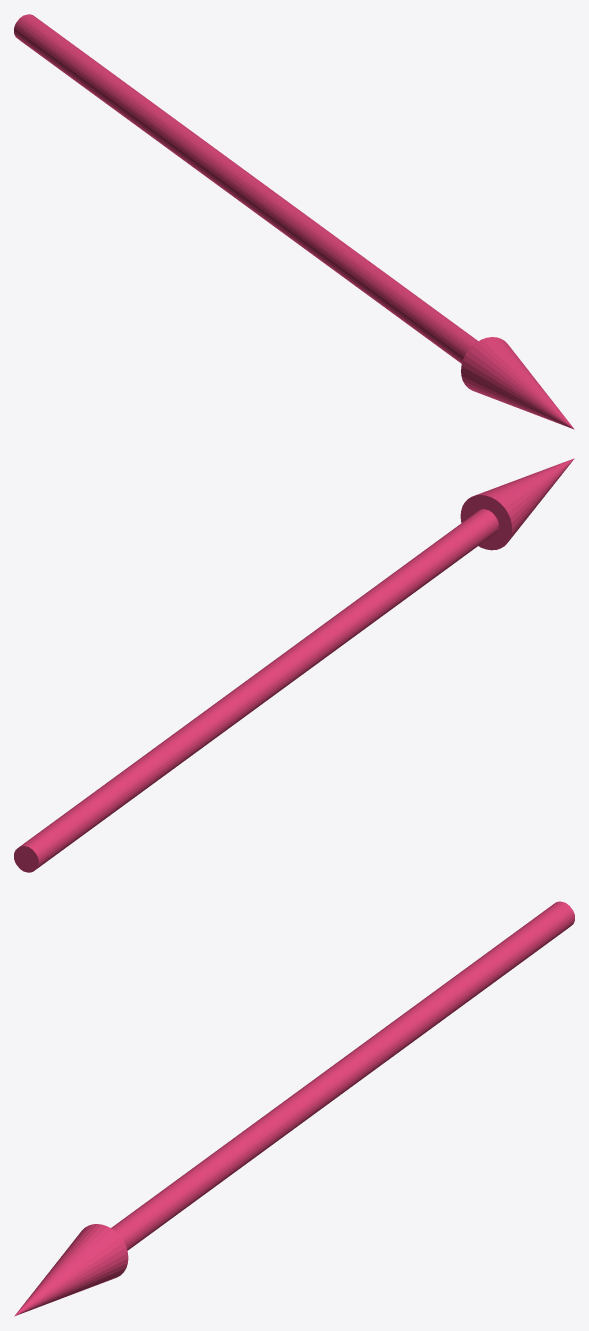
Rendered from Axis_SCN.gltf.
The picture shows the model from 3 angles, top to bottom: view 1: azimuth 30°, elevation 25°; view 2: azimuth 150°, elevation 25°; view 3: azimuth 330°, elevation 25°; orthographic projection.
Visible parts, largest first — view 1: Eje_Cono.001; view 2: Eje_Cono.001; view 3: Eje_Cono.001.
Boxes of the visible parts, x1=… form: Eje_Cono.001: x1=14, y1=14, x2=574, y2=429; Eje_Cono.001: x1=14, y1=458, x2=574, y2=872; Eje_Cono.001: x1=14, y1=901, x2=574, y2=1316.
Size of the model in its own units: 0.1606 by 0.1606 by 2.96.
